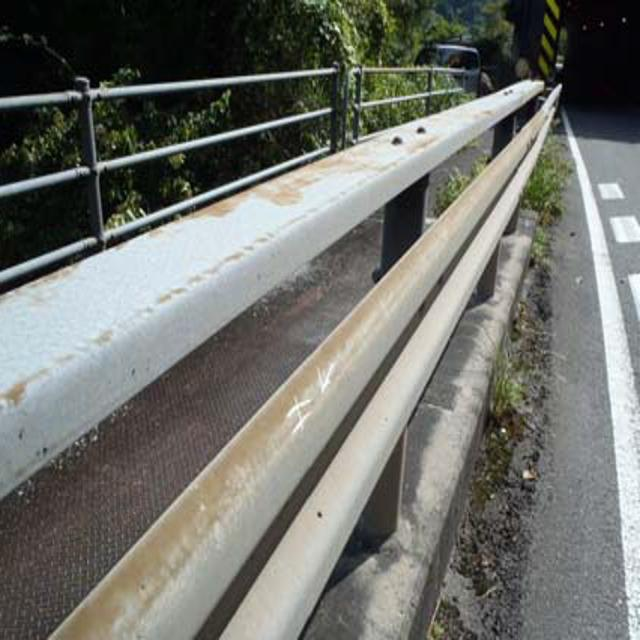corrosion: (201, 134, 373, 227)
